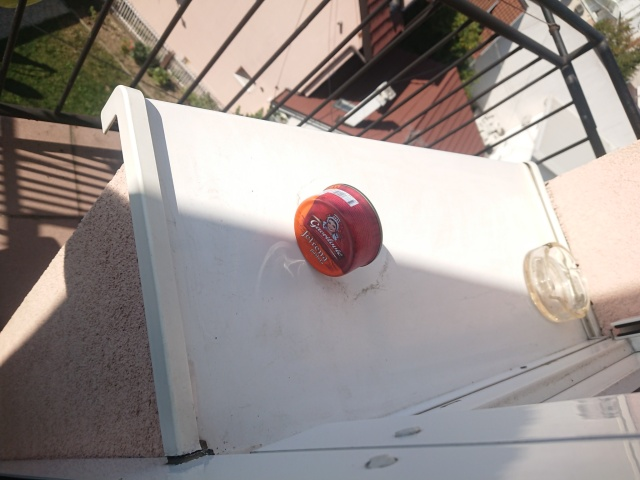Gavrilovic Pork Liver Pate 100g: (291, 180, 385, 280)
